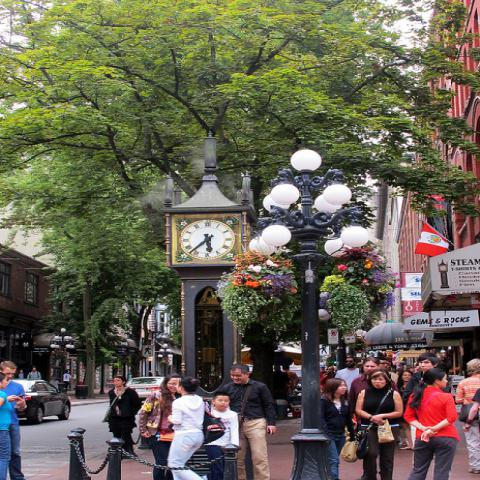car: (12, 379, 72, 423), (125, 377, 166, 397)
